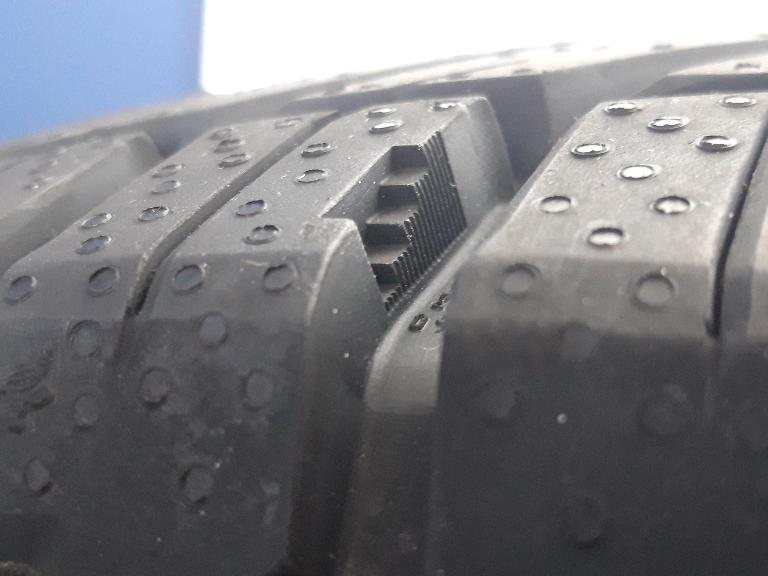temoin:100: (315, 126, 476, 329)
